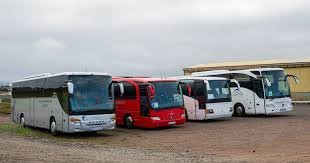bus: (9, 72, 117, 136), (191, 67, 299, 114), (110, 77, 192, 130), (175, 77, 240, 121)
